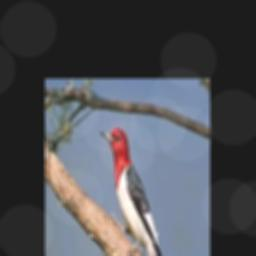Woodpecker: (101, 127, 167, 256)
